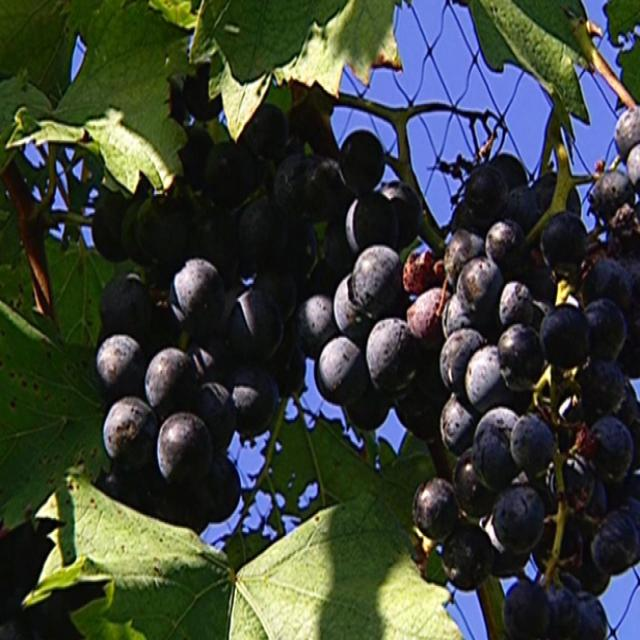grape: (29, 63, 445, 532), (406, 212, 640, 638)
